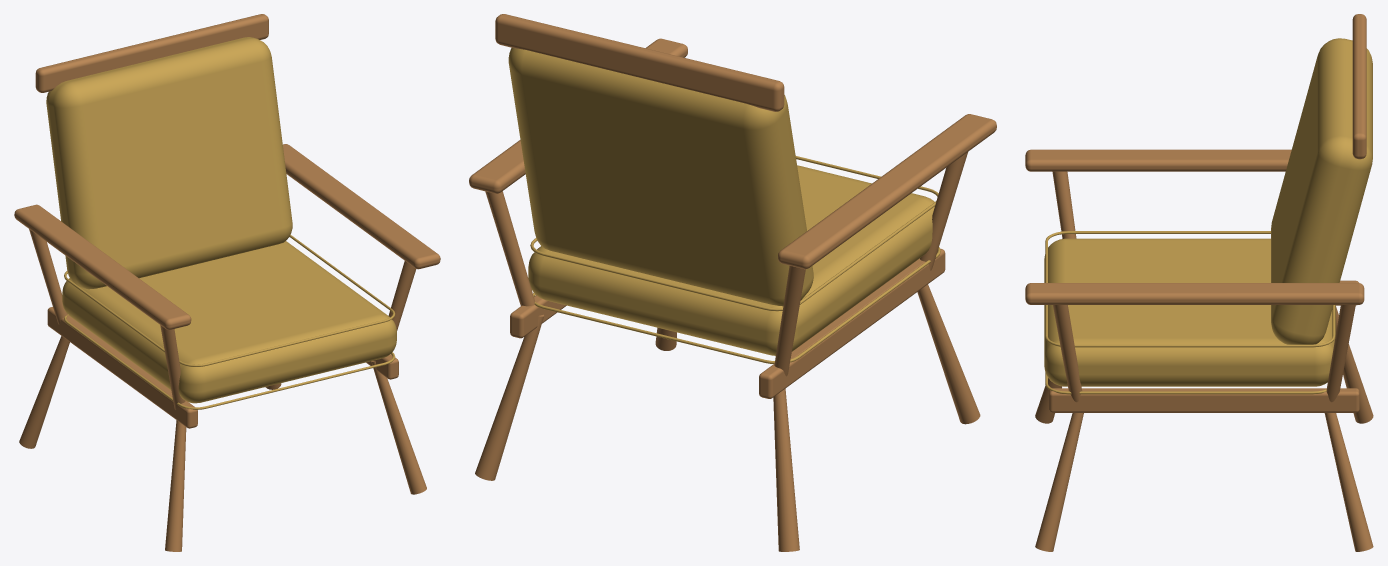
File: lounge_chair.glb
3 renders of one model, left to right at view 1: azimuth 30°, elevation 25°; view 2: azimuth 150°, elevation 25°; view 3: azimuth 270°, elevation 25°, orthographic. The views are drawn at different scales.
Parts seen in each view (by area): view 1: Back, Seat, Arm, BackFrame, Arm.001, Rail, Leg, Leg.002, Leg.001, Piping, Piping.001, ArmPost.001 (+2 smaller); view 2: Back, Seat, BackFrame, Arm, Rail, Leg.001, Leg.003, Leg, Arm.001, Piping, ArmPost.003, ArmPost.001 (+3 smaller); view 3: Seat, Back, Arm.001, Rail.001, Arm, Leg.002, Leg.003, BackFrame, Piping, ArmPost.003, ArmPost.002, Piping.001 (+3 smaller).
Part boxes in pixels (box(x1,y1,x2,y2)): Back: box(46, 37, 292, 289); Seat: box(62, 241, 396, 403); Arm: box(14, 204, 191, 329); BackFrame: box(35, 14, 268, 92); Arm.001: box(283, 144, 440, 269); Rail: box(47, 307, 197, 428); Leg: box(165, 420, 186, 551); Leg.002: box(371, 361, 426, 494); Leg.001: box(19, 336, 69, 448); Piping: box(64, 234, 395, 366); Piping.001: box(64, 314, 395, 409); ArmPost.001: box(29, 229, 67, 324); Back: box(508, 48, 813, 306); Seat: box(528, 165, 934, 355); BackFrame: box(495, 14, 784, 111); Arm: box(778, 114, 996, 269); Rail: box(759, 248, 945, 398); Leg.001: box(773, 388, 799, 551); Leg.003: box(475, 314, 543, 480); Leg: box(917, 284, 980, 424); Arm.001: box(469, 38, 687, 193); Piping: box(530, 156, 938, 311); ArmPost.003: box(485, 191, 534, 306); ArmPost.001: box(774, 266, 805, 376); Seat: box(1044, 238, 1335, 386); Back: box(1271, 38, 1372, 344); Arm.001: box(1025, 283, 1364, 304); Rail.001: box(1049, 388, 1359, 412); Arm: box(1025, 149, 1291, 171); Leg.002: box(1035, 413, 1083, 551); Leg.003: box(1324, 413, 1373, 551); BackFrame: box(1352, 14, 1366, 159); Piping: box(1045, 231, 1335, 347); ArmPost.003: box(1326, 305, 1355, 402); ArmPost.002: box(1053, 305, 1082, 402); Piping.001: box(1045, 372, 1326, 394).
Bounding box in the file's own units: 0.74 × 0.9663 × 0.7394.
